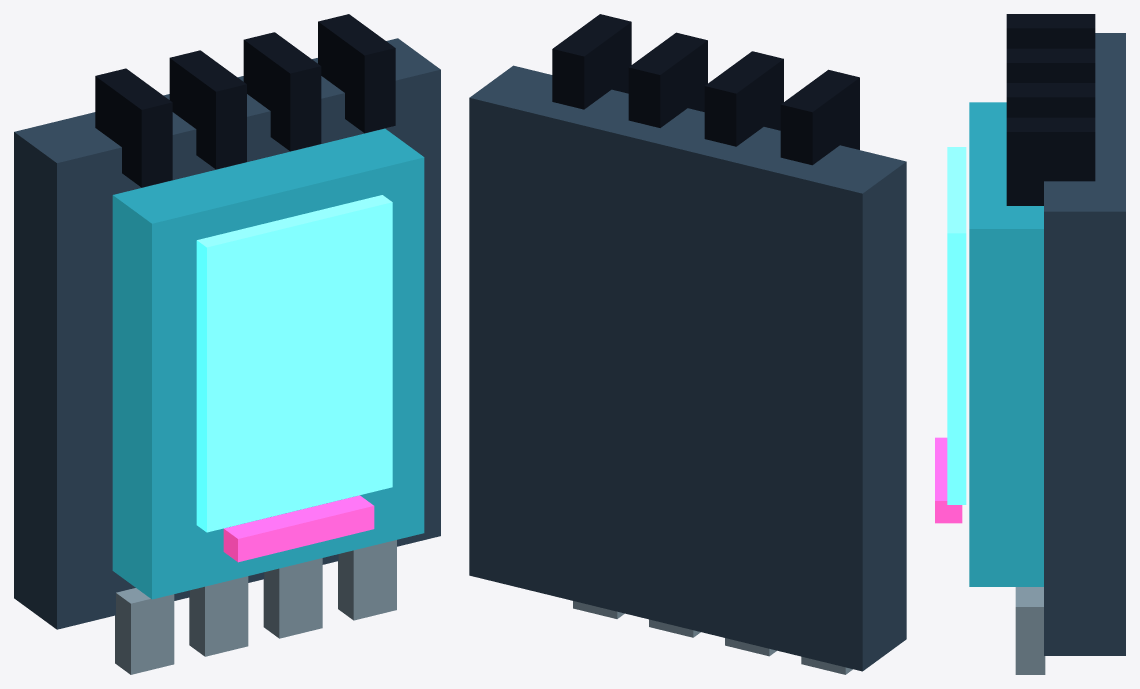
The model's file is packet.glb.
3 views of the same model, side by side, from view 1: azimuth 30°, elevation 25°; view 2: azimuth 150°, elevation 25°; view 3: azimuth 270°, elevation 25° (orthographic). The views are drawn at different scales.
Visible parts, largest first — view 1: prop-packet-sz-armor, prop-packet-sz-screen, prop-packet-sz-mint, prop-packet-sz-rubber, prop-packet-sz-edge, prop-packet-sz-pink; view 2: prop-packet-sz-armor, prop-packet-sz-rubber, prop-packet-sz-edge; view 3: prop-packet-sz-armor, prop-packet-sz-screen, prop-packet-sz-rubber, prop-packet-sz-mint, prop-packet-sz-edge, prop-packet-sz-pink.
Boxes of the visible parts, box(x1,y1,x2,y2) form: prop-packet-sz-armor: box(14, 38, 440, 629); prop-packet-sz-screen: box(112, 128, 424, 599); prop-packet-sz-mint: box(196, 195, 392, 532); prop-packet-sz-rubber: box(95, 14, 395, 187); prop-packet-sz-edge: box(115, 540, 396, 674); prop-packet-sz-pink: box(223, 495, 374, 562); prop-packet-sz-armor: box(469, 65, 906, 671); prop-packet-sz-rubber: box(552, 14, 859, 165); prop-packet-sz-edge: box(573, 601, 852, 674); prop-packet-sz-armor: box(1044, 33, 1125, 655); prop-packet-sz-screen: box(969, 102, 1043, 586); prop-packet-sz-rubber: box(1006, 14, 1095, 205); prop-packet-sz-mint: box(947, 147, 966, 504); prop-packet-sz-edge: box(1015, 587, 1045, 674); prop-packet-sz-pink: box(935, 437, 962, 523).
Bounding box in the file's own units: 0.31 × 0.4375 × 0.14.
